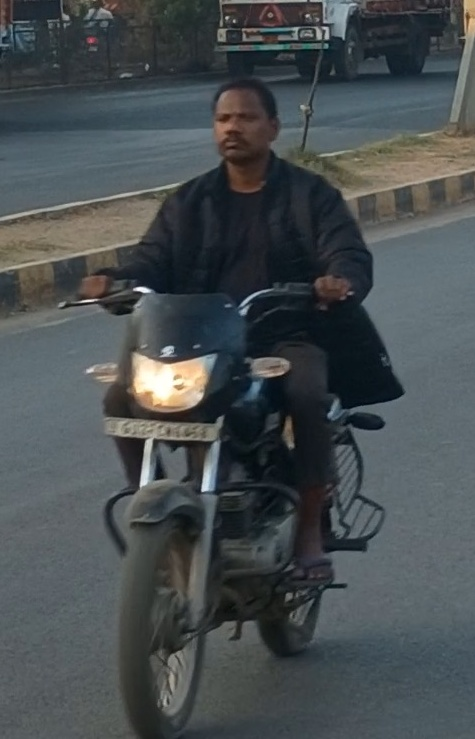BikeWithRider: (46, 69, 415, 739)
NoHelmet: (195, 70, 292, 171)
